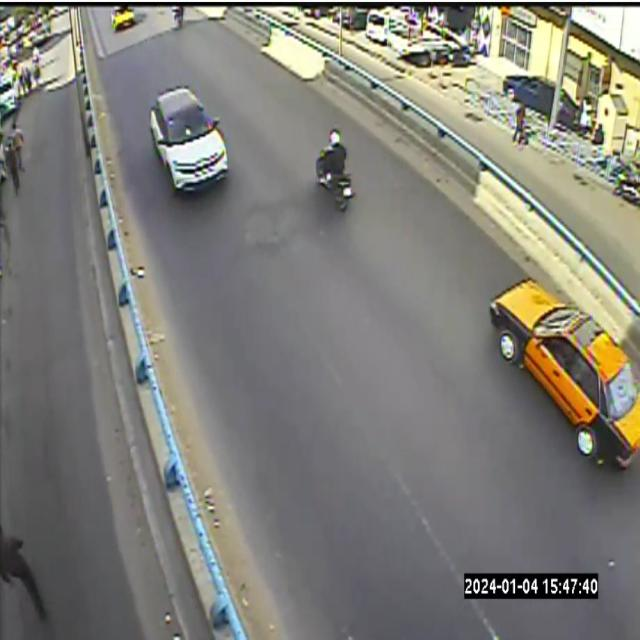car: (138, 86, 232, 200)
